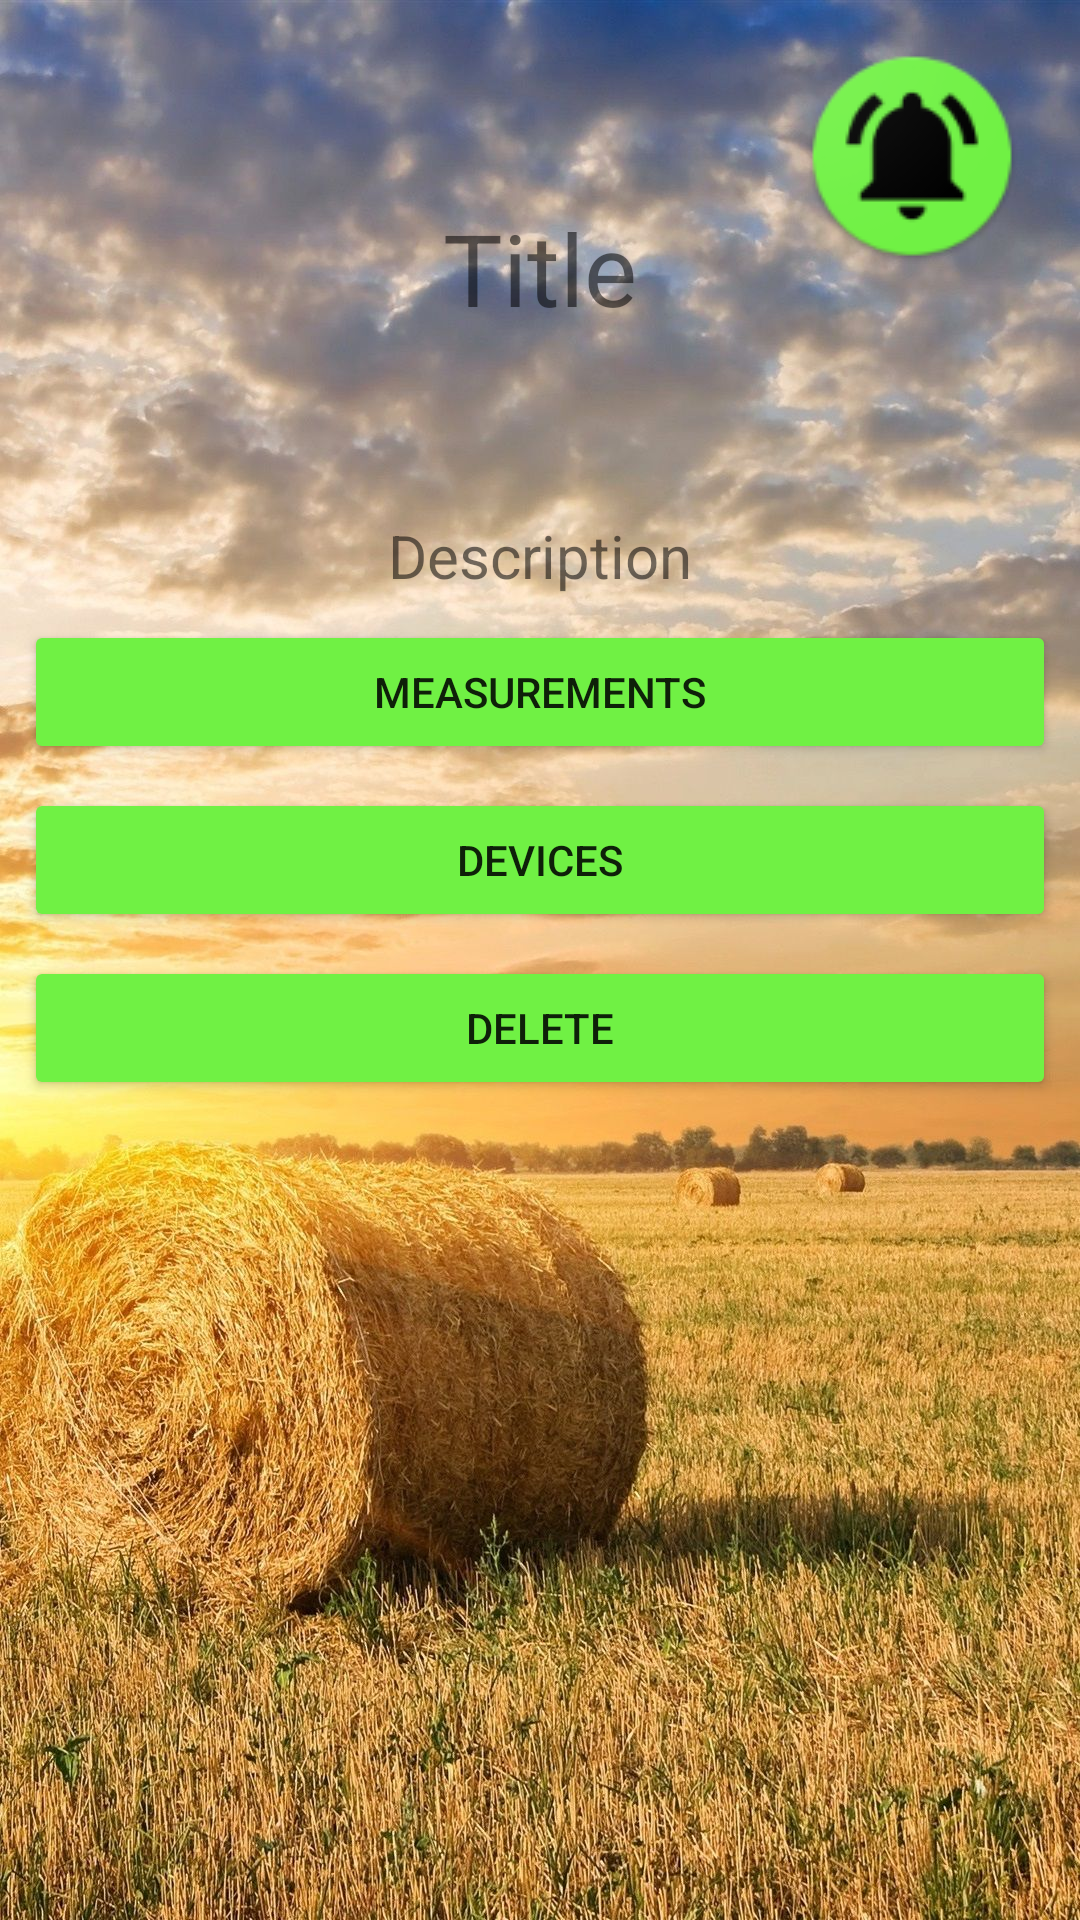

Where to tap for icons on this 1080 × 1920 app screen, as (x,y):
notifications: (912,156)
